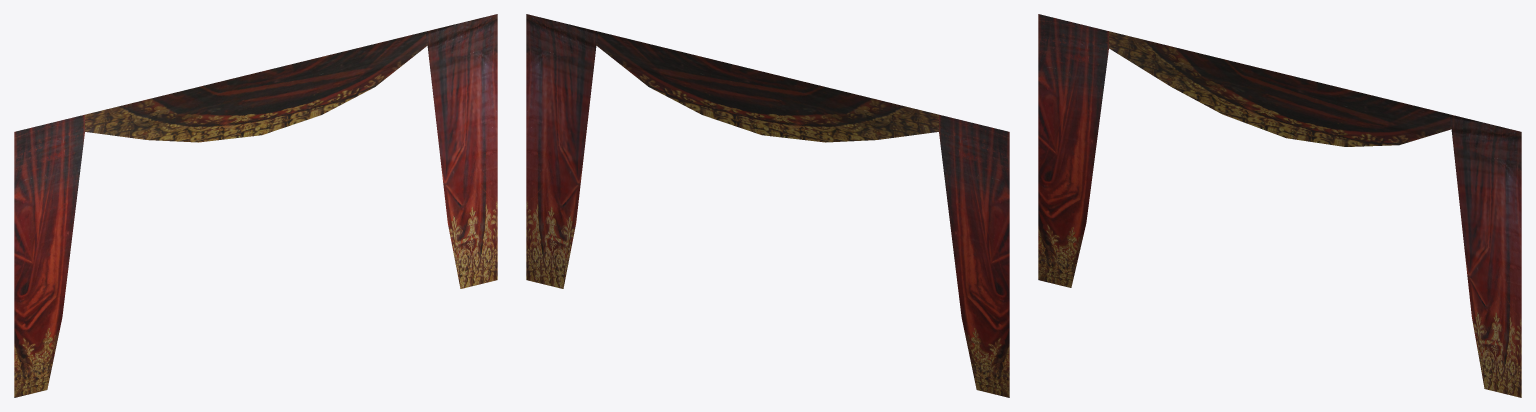
Rendered from Proszenium.fbx.
The picture shows the model from 3 angles, left to right: view 1: azimuth 30°, elevation 25°; view 2: azimuth 150°, elevation 25°; view 3: azimuth 330°, elevation 25°; orthographic projection.
Visible parts, largest first — view 1: Plane; view 2: Plane; view 3: Plane.
Part boxes in pixels (x1=…): Plane: x1=14, y1=14, x2=497, y2=397; Plane: x1=526, y1=14, x2=1009, y2=397; Plane: x1=1038, y1=14, x2=1521, y2=397.
Bounding box in the file's own units: 404 × 213 × 2.59e-05.
1 material, 1 textured.
